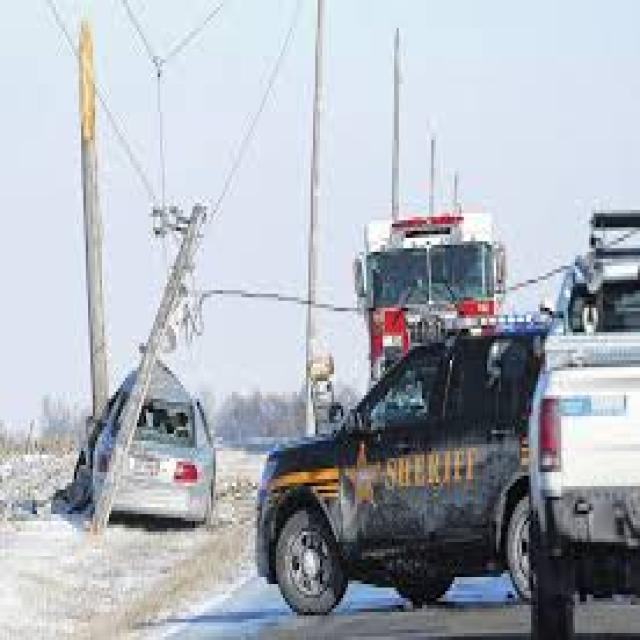car-moderate-accident: (64, 231, 244, 578)
